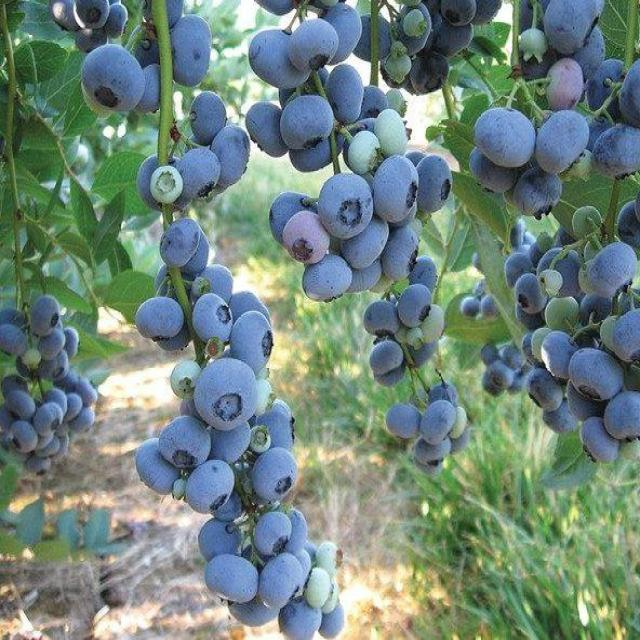BlueBerry - v1: (74, 38, 149, 119), (192, 353, 258, 430), (472, 101, 540, 172), (242, 27, 312, 90), (532, 105, 593, 176), (316, 170, 374, 241), (539, 0, 611, 56), (167, 13, 220, 87), (564, 344, 627, 406), (204, 119, 258, 188), (180, 456, 239, 518), (590, 114, 640, 184), (130, 434, 182, 500), (202, 552, 263, 608), (266, 188, 325, 245), (279, 93, 335, 152), (508, 166, 569, 220), (371, 153, 418, 223), (335, 210, 390, 268), (176, 142, 227, 204), (284, 16, 340, 72), (154, 415, 212, 469), (536, 243, 587, 304), (243, 98, 293, 160), (320, 58, 368, 122), (588, 240, 637, 302), (256, 547, 302, 613), (229, 308, 277, 371), (466, 146, 524, 197), (414, 149, 456, 219), (276, 210, 328, 265), (320, 2, 363, 68), (302, 253, 354, 307), (378, 222, 423, 282), (254, 443, 296, 504), (188, 86, 229, 148), (130, 150, 176, 205), (576, 413, 622, 468), (544, 55, 588, 112), (206, 417, 255, 468), (600, 386, 640, 448), (266, 598, 325, 640), (191, 256, 238, 308), (260, 396, 300, 456), (352, 6, 393, 64), (157, 214, 200, 269), (190, 293, 237, 343), (189, 514, 239, 561), (134, 295, 185, 341), (585, 56, 628, 110), (130, 58, 170, 115), (251, 502, 293, 556), (227, 285, 275, 332), (540, 329, 580, 385), (227, 593, 285, 631), (540, 288, 582, 340), (564, 380, 609, 428), (410, 51, 454, 97), (375, 106, 411, 162), (524, 366, 566, 414), (512, 20, 554, 68), (360, 296, 405, 340), (392, 282, 434, 329), (430, 21, 478, 62), (612, 300, 640, 370), (126, 24, 166, 72), (346, 124, 384, 174), (396, 4, 434, 54), (616, 52, 640, 131), (509, 270, 548, 318), (579, 24, 610, 84), (380, 398, 422, 442), (407, 248, 442, 300), (346, 258, 388, 298), (25, 292, 60, 340), (0, 317, 36, 363), (422, 399, 457, 446), (364, 338, 406, 377), (542, 400, 580, 443), (284, 500, 312, 558), (148, 165, 187, 206), (135, 0, 186, 31), (499, 248, 536, 290), (314, 596, 351, 637), (148, 325, 196, 356), (612, 197, 640, 250), (577, 290, 615, 328), (74, 19, 112, 57), (28, 399, 65, 438), (427, 370, 462, 410), (417, 304, 450, 346), (169, 356, 202, 398), (412, 436, 452, 470), (570, 201, 603, 242), (186, 231, 215, 277), (312, 535, 343, 577), (358, 80, 388, 123), (307, 568, 335, 614), (434, 0, 478, 29), (9, 416, 40, 457), (48, 0, 83, 35), (74, 0, 114, 30), (382, 44, 412, 84), (252, 373, 279, 416), (35, 326, 67, 362), (39, 348, 71, 384), (6, 386, 38, 422), (535, 265, 566, 302), (17, 450, 53, 480), (105, 0, 132, 39), (248, 0, 300, 19), (472, 0, 506, 29), (74, 373, 102, 408), (0, 369, 31, 399), (244, 425, 275, 455), (596, 310, 618, 351), (70, 404, 98, 436), (400, 3, 426, 36), (527, 324, 549, 363), (46, 386, 70, 420), (61, 318, 81, 357), (0, 302, 27, 330), (490, 359, 514, 390), (503, 340, 524, 373), (60, 393, 84, 421), (461, 292, 483, 322), (481, 338, 503, 368), (39, 430, 60, 459), (477, 292, 498, 318)
